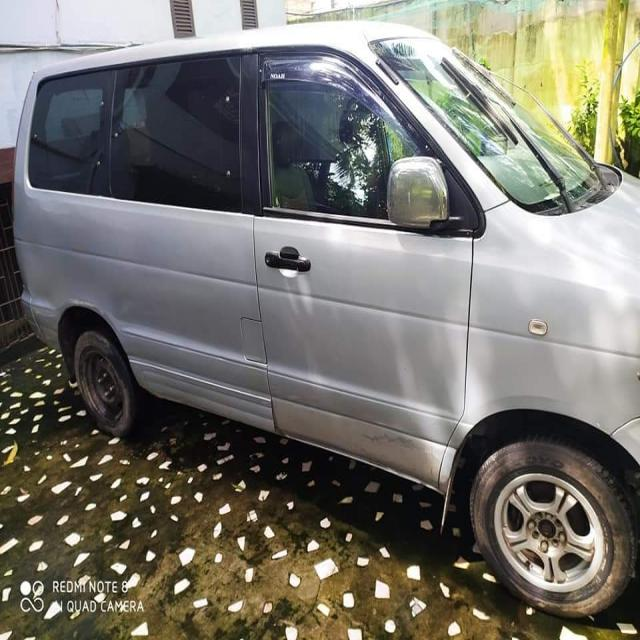silver: (15, 45, 640, 585)
